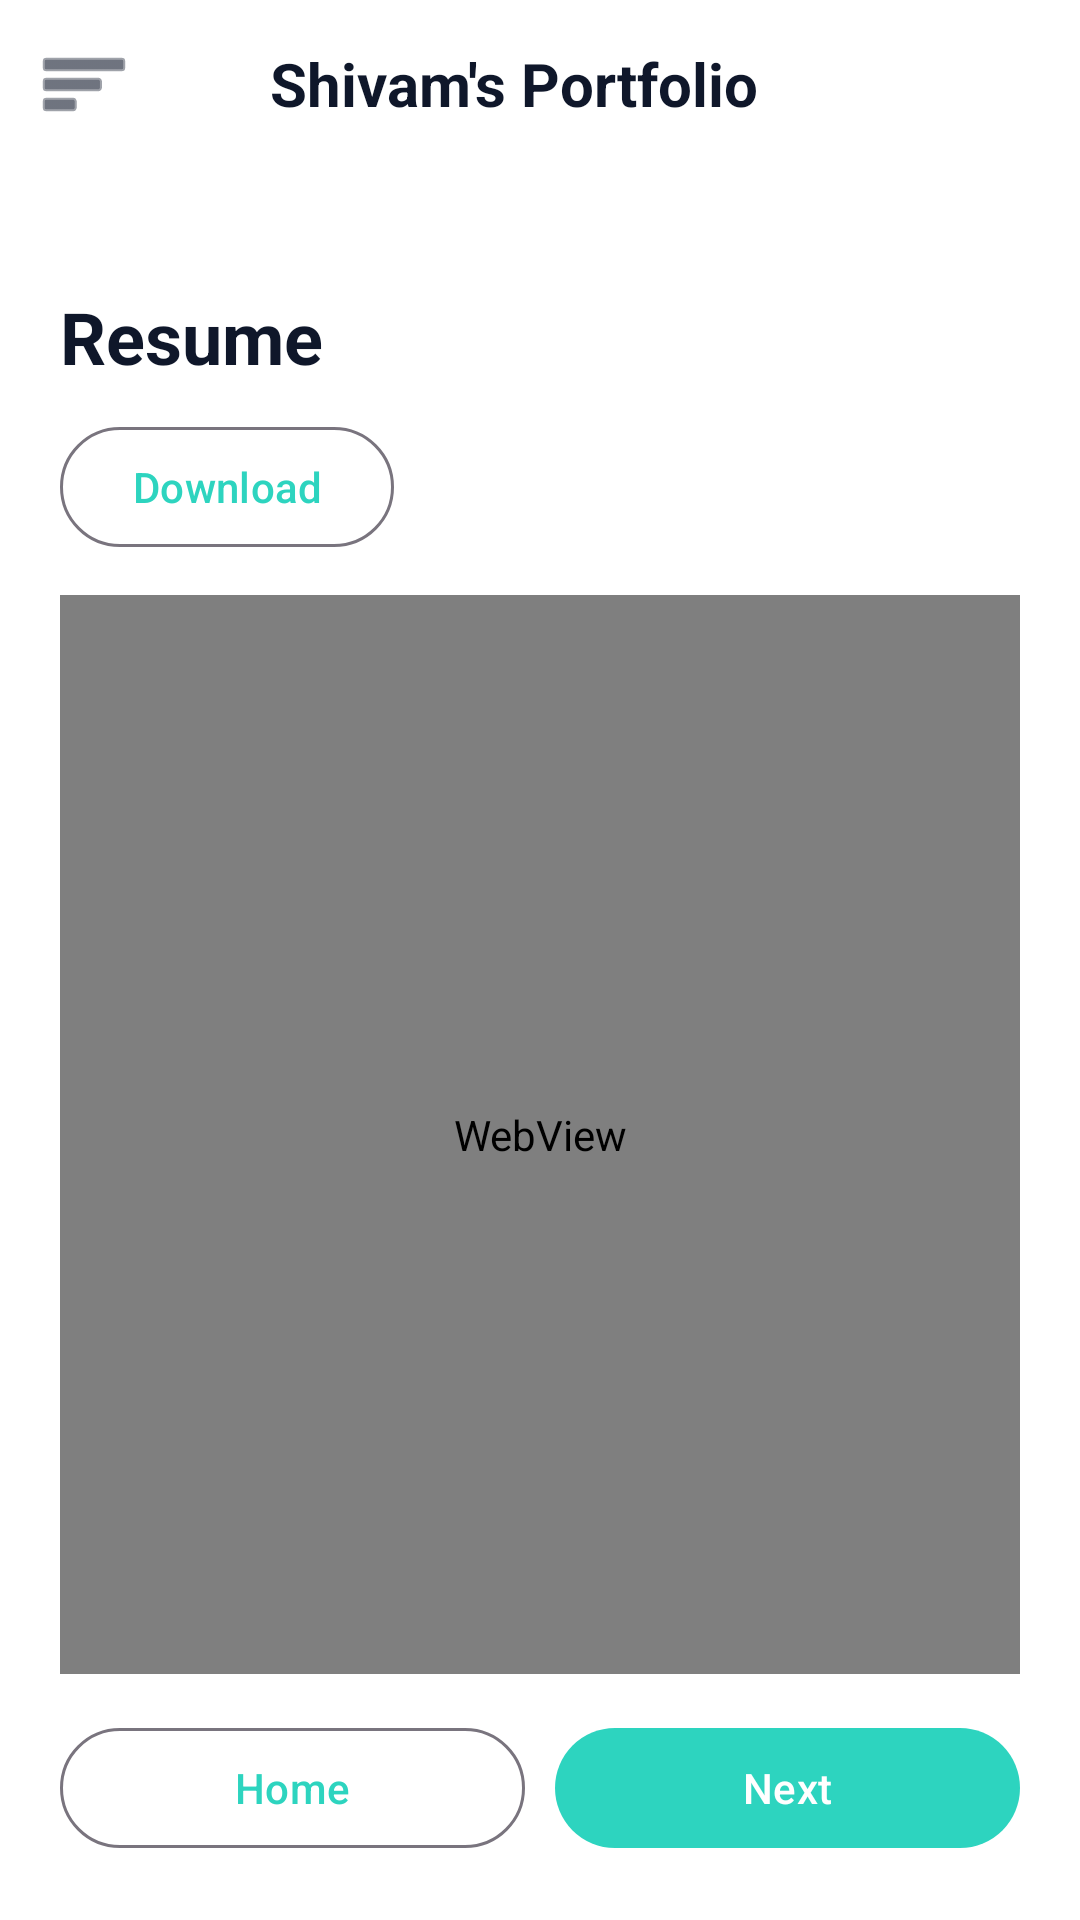

Locate icon controls on the screen. Image size 1080px x 1920px, boxes as [left=x1, top=y1, right=x2, bottom=y2].
Open navigation: [left=43, top=58, right=125, bottom=111]
